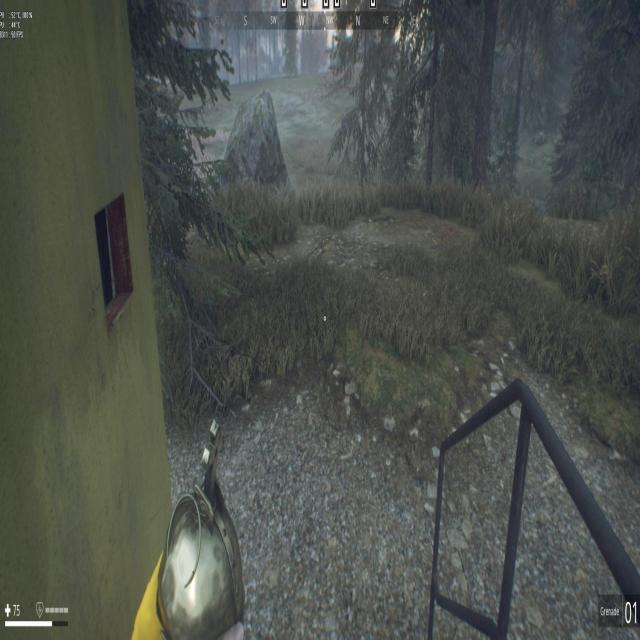grenade: (158, 419, 247, 640)
